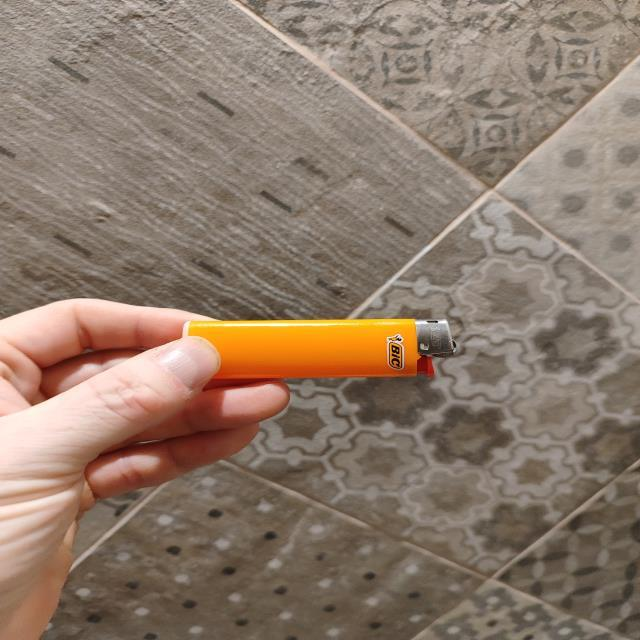lighter: (186, 320, 457, 386)
